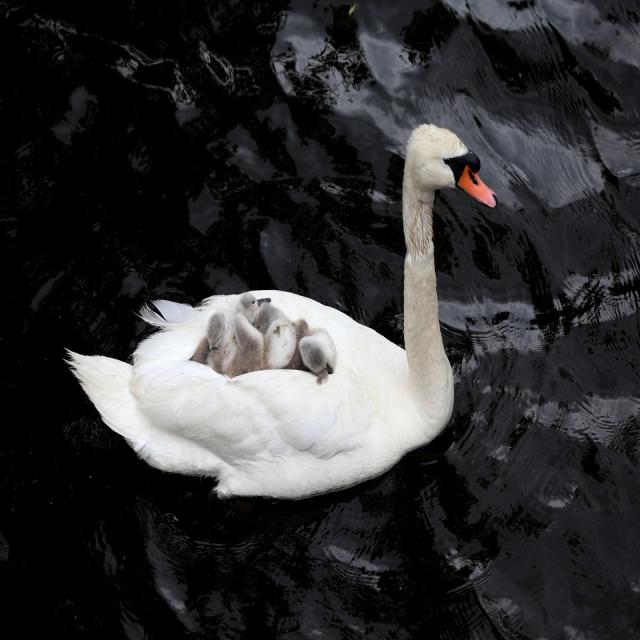swan: (67, 124, 496, 499)
